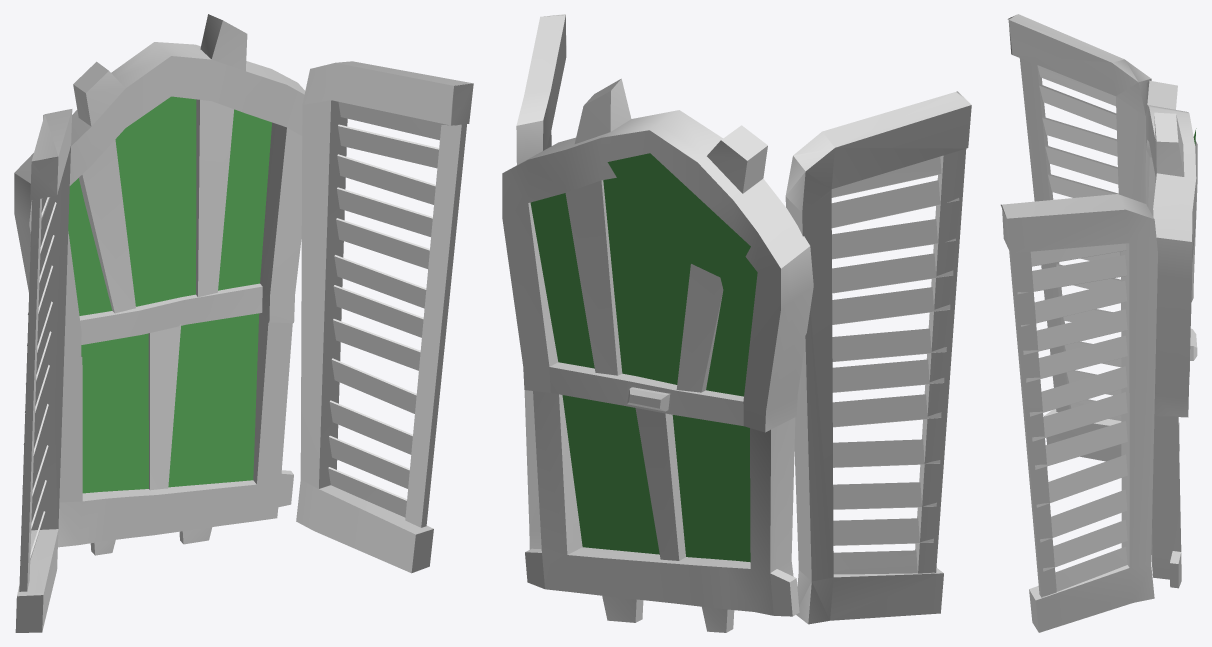
The model's file is WitchWindow_Portal.fbx.
3 views of the same model, side by side, from view 1: azimuth 30°, elevation 25°; view 2: azimuth 150°, elevation 25°; view 3: azimuth 270°, elevation 25° (orthographic). The views are drawn at different scales.
Parts seen in each view (by area): view 1: WitchWindow_Frame, WitchWindow_Portal; view 2: WitchWindow_Frame, WitchWindow_Portal; view 3: WitchWindow_Frame.
Boxes of the visible parts, box(x1,y1,x2,y2) form: WitchWindow_Frame: box(14, 14, 473, 632); WitchWindow_Portal: box(68, 96, 271, 493); WitchWindow_Frame: box(502, 14, 971, 632); WitchWindow_Portal: box(530, 153, 757, 562); WitchWindow_Frame: box(1000, 14, 1197, 632).
Bounding box in the file's own units: 175 × 204 × 79.17.
